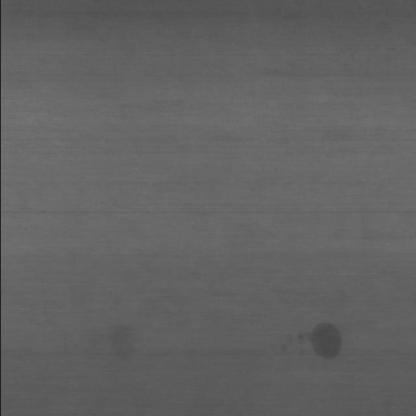oil_spot: (288, 320, 357, 364)
